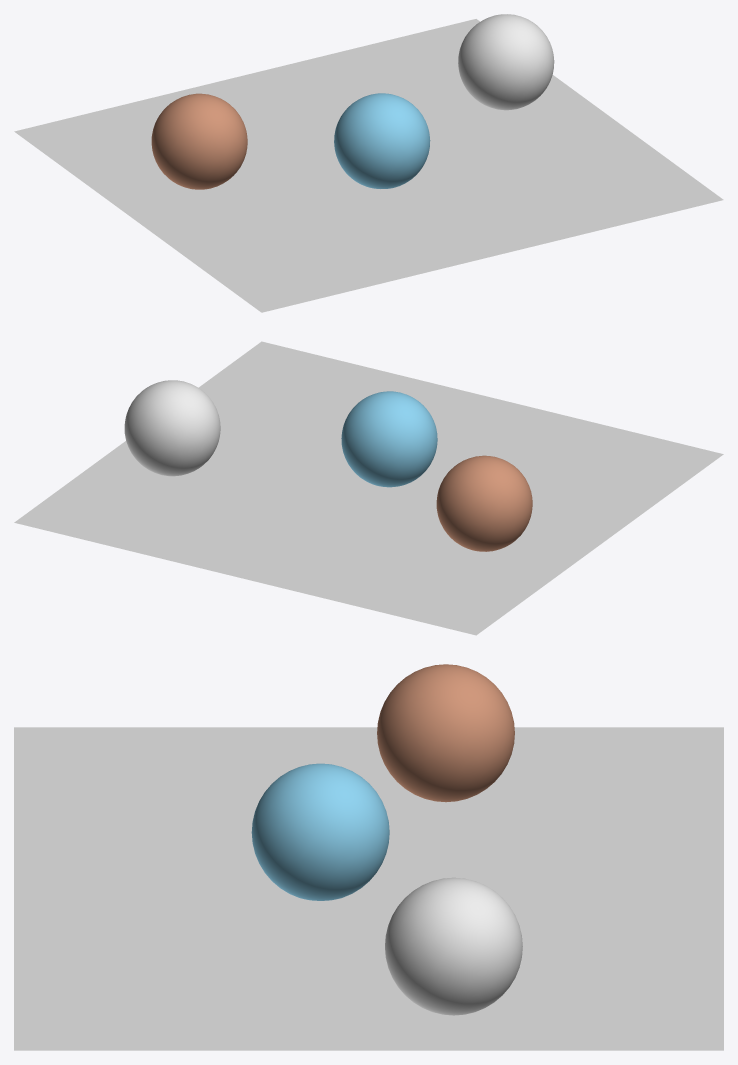
File: 3spheres.dae
3 renders of one model, top to bottom at view 1: azimuth 30°, elevation 25°; view 2: azimuth 150°, elevation 25°; view 3: azimuth 270°, elevation 25°, orthographic. The views are drawn at different scales.
Parts seen in each view (by area): view 1: Plane, Sphere_003, Sphere-Node, Sphere_001; view 2: Plane, Sphere_001, Sphere_003, Sphere-Node; view 3: Plane, Sphere-Node, Sphere_003, Sphere_001.
Boxes of the visible parts, <box> form: Plane: <box>14,19,723,312</box>; Sphere_003: <box>458,14,554,110</box>; Sphere-Node: <box>151,93,247,189</box>; Sphere_001: <box>334,93,430,188</box>; Plane: <box>14,341,723,635</box>; Sphere_001: <box>341,391,437,487</box>; Sphere_003: <box>124,380,220,476</box>; Sphere-Node: <box>436,455,532,551</box>; Plane: <box>14,727,723,1050</box>; Sphere-Node: <box>377,664,514,802</box>; Sphere_003: <box>385,877,522,1015</box>; Sphere_001: <box>251,763,389,900</box>.
Bounding box in the file's own units: 11.09 × 10.29 × 2.08.
